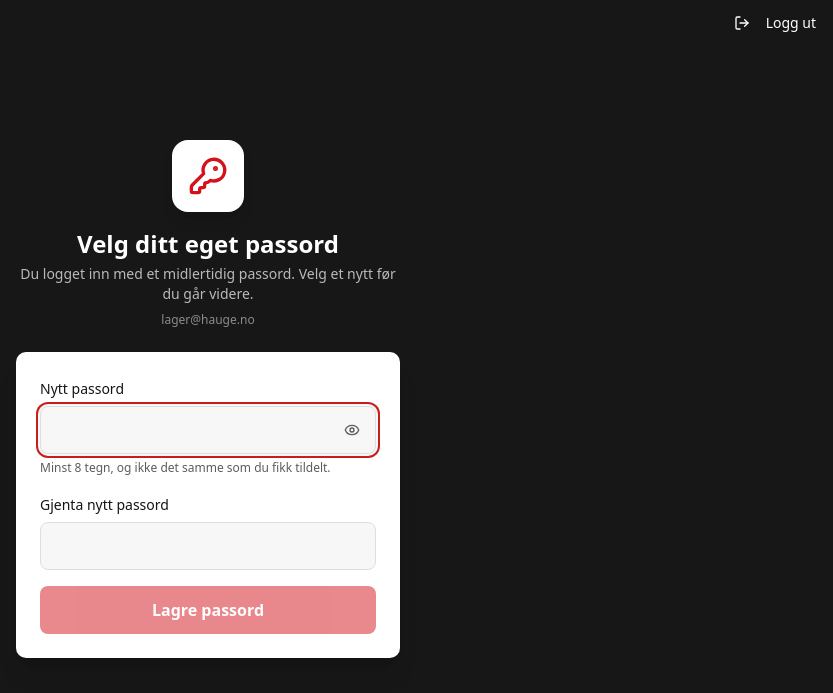
Test: første innlogging › ulike passord blir stoppa før noko blir sendt
Step 1. Type "mittegetpassord" into the password field labelled "Nytt passord" → (208, 430), box [40,406,376,454]
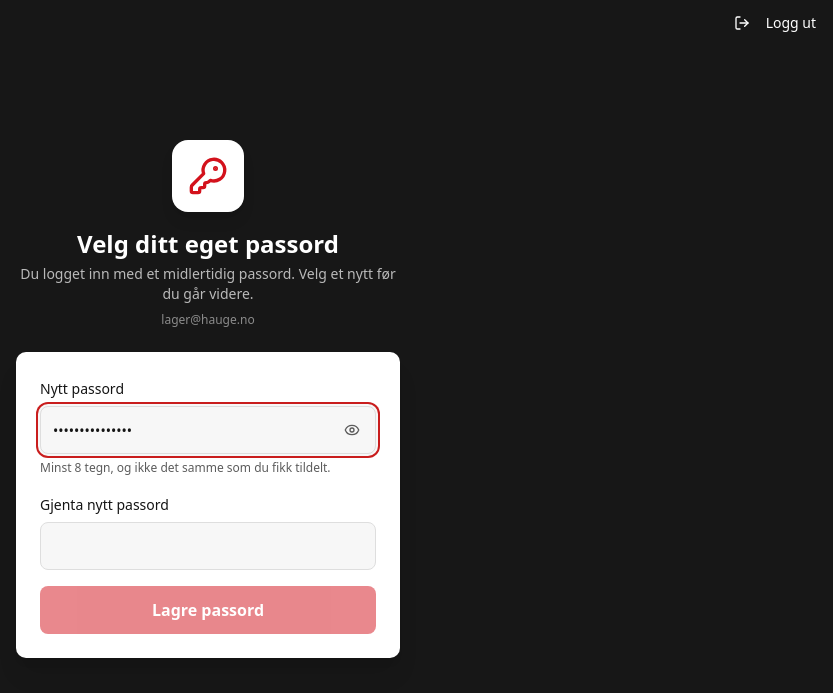
Step 2. Type "mittegetpasord" into the password field labelled "Gjenta nytt passord" → (208, 546), box [40,522,376,570]
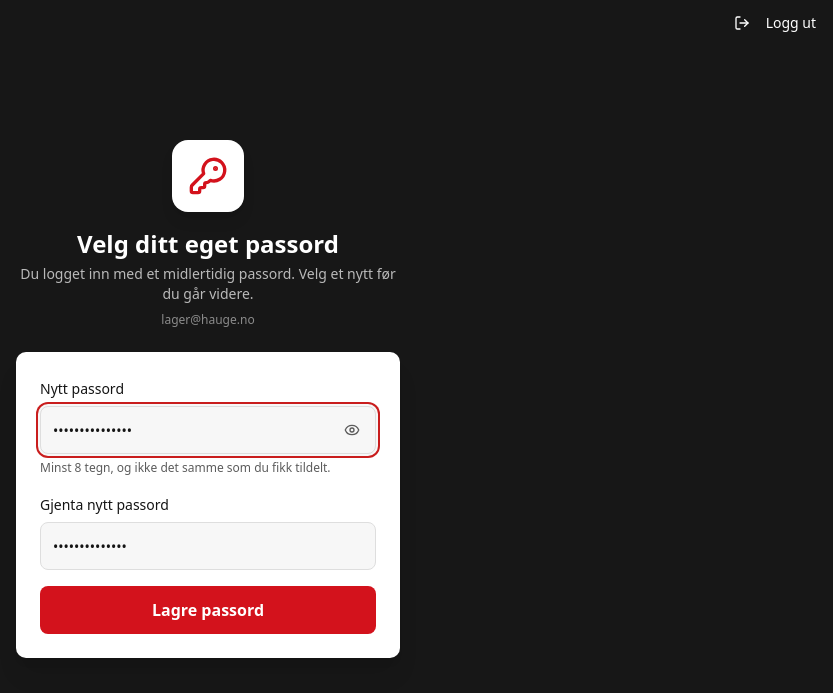
Step 3. Click the button "Lagre passord" → (208, 610), box [40,586,376,634]
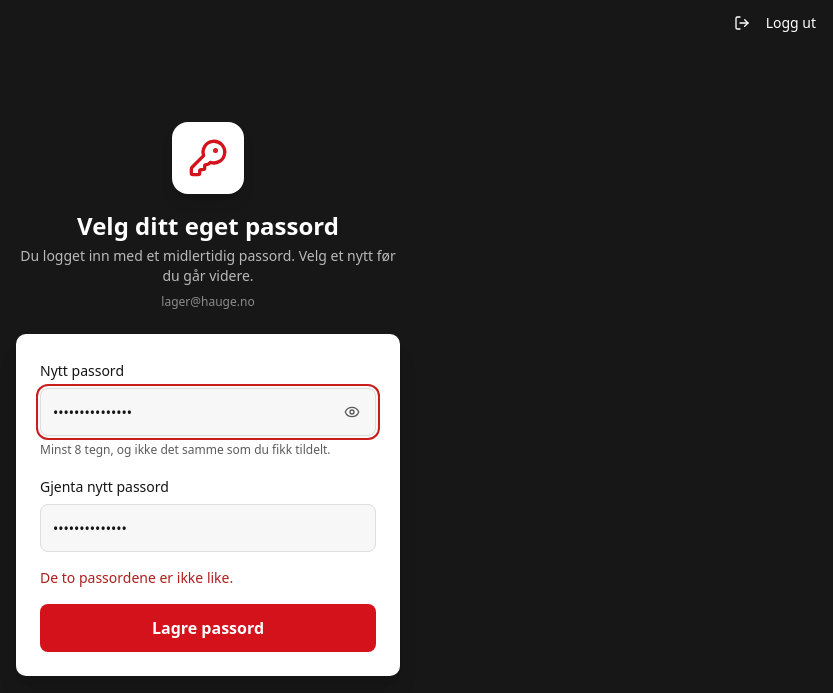
Expected: the message shows "ikke like", [40,568,233,587]
